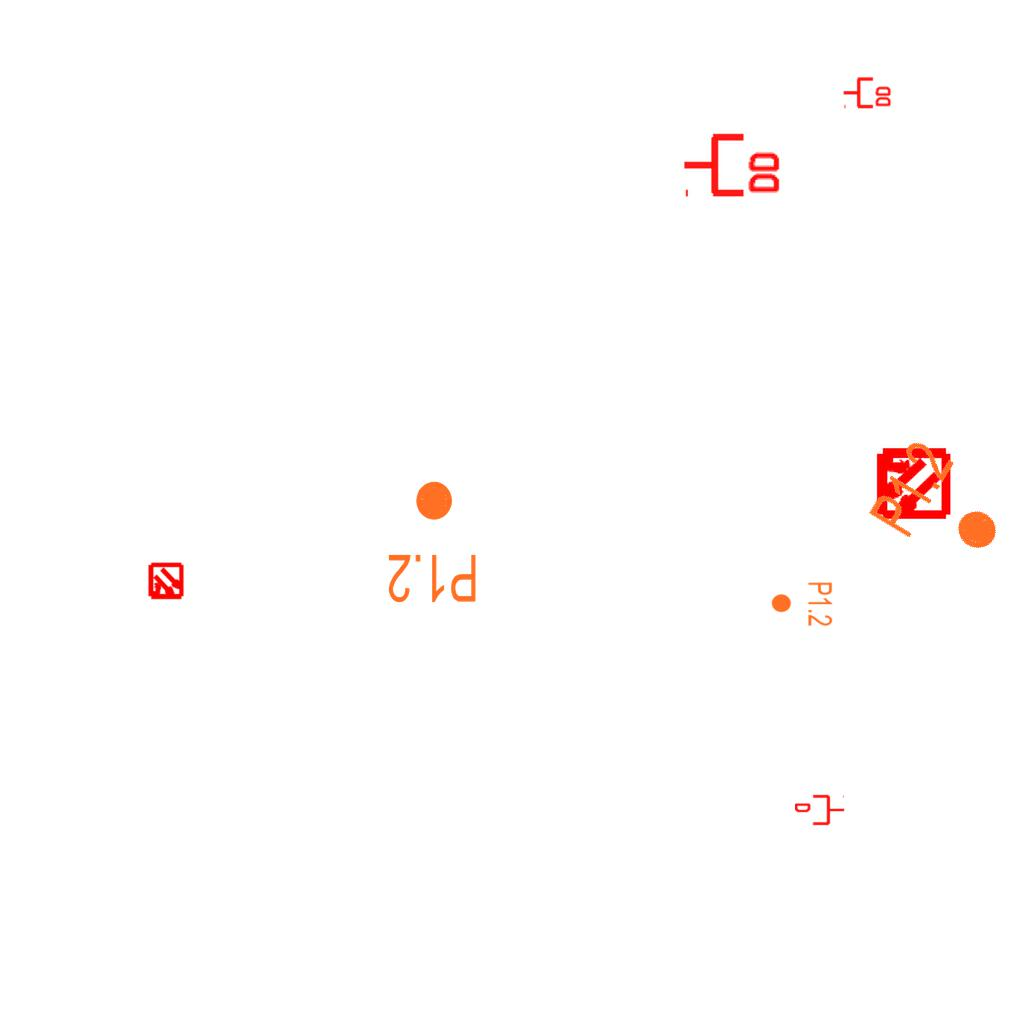Datenanschluss_einfach: (795, 793, 845, 827)
Datenanschluss_zweifach: (681, 129, 784, 198), (842, 75, 893, 109)
Downlight_LED_Einbauleuchten_Flur: (863, 434, 1022, 580), (386, 478, 479, 606), (770, 581, 834, 627)
OT_Multisensormelder_(Kombination_RMO_WMD): (855, 427, 968, 540), (138, 554, 194, 610)
